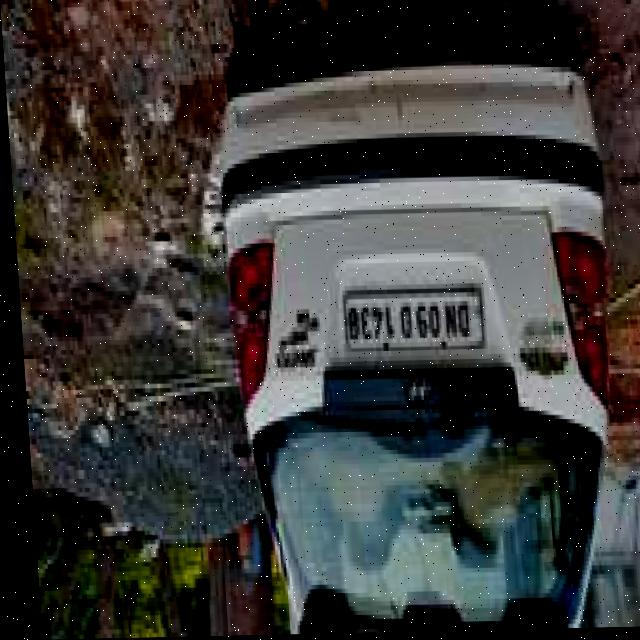plate: (334, 292, 484, 361)
